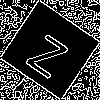Z: (25, 24, 75, 80)
